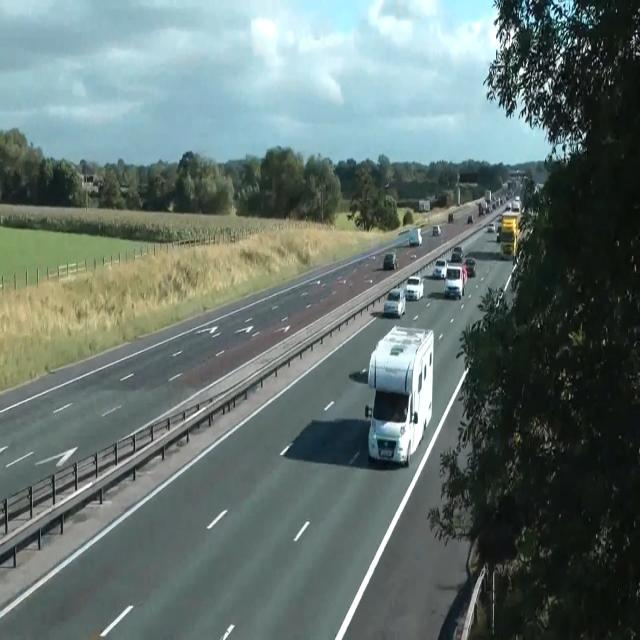bus: (383, 288, 405, 317), (404, 276, 424, 300), (432, 258, 448, 279), (383, 252, 399, 270), (462, 257, 476, 276), (432, 224, 441, 236), (496, 225, 501, 243), (487, 221, 495, 232), (467, 214, 473, 223)
car: (364, 323, 434, 468)
jeep: (443, 263, 467, 299), (451, 244, 463, 262)
minibus: (499, 212, 519, 260), (409, 228, 422, 246), (418, 199, 430, 212), (484, 189, 492, 203), (448, 212, 454, 222)
